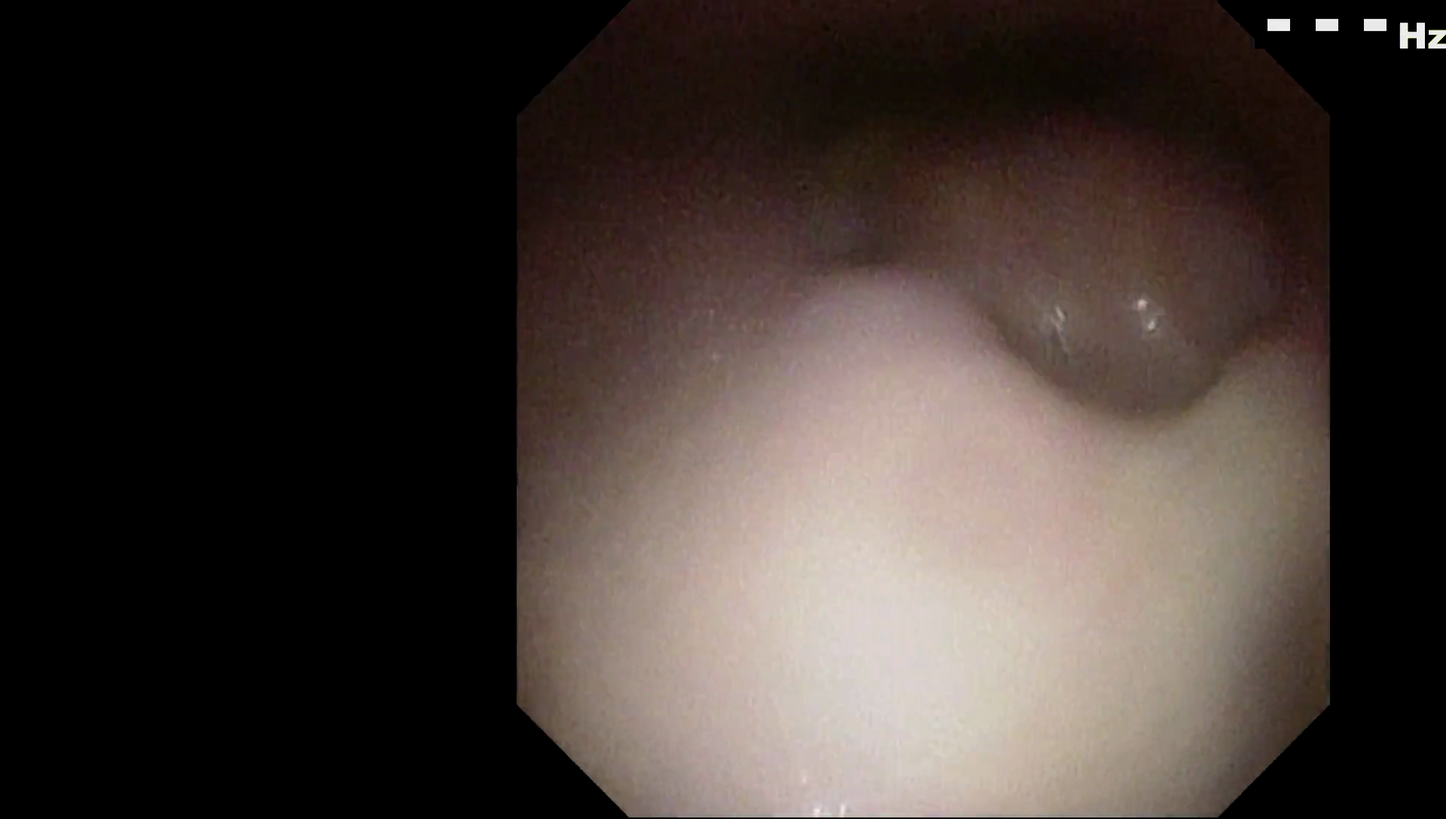close_wall: (576, 242, 1291, 742)
next: (794, 20, 1221, 180)
